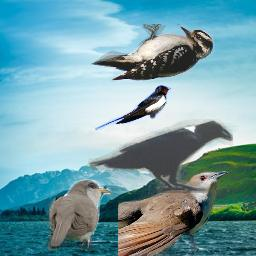Crow: (87, 119, 233, 193)
Cuckoo: (118, 171, 228, 256), (46, 179, 112, 251)
Swallow: (94, 85, 171, 130)
Woodpecker: (90, 24, 221, 85)
